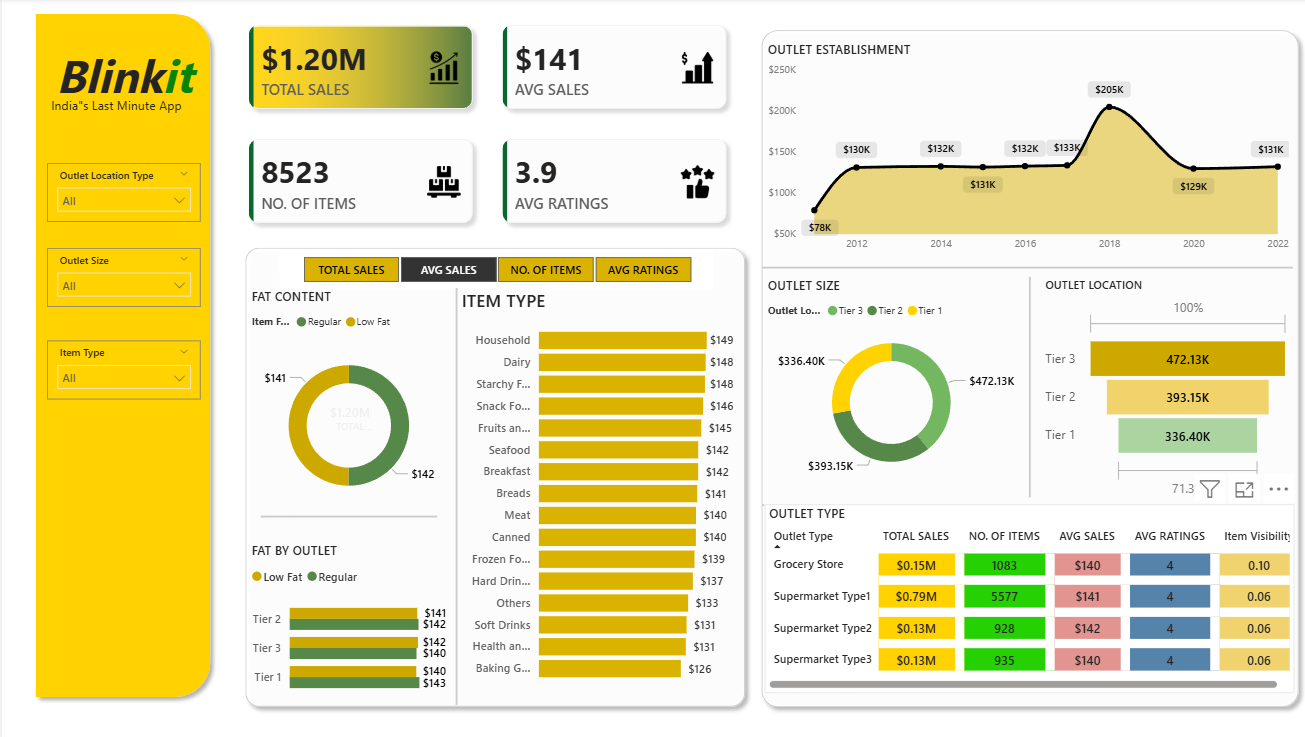

Layout of this report page (visuals, bound fields, positions):
{"tool":"powerbi","page":{"name":"Page 1","canvas":[1400,800],"ordinal":0},"visuals":[{"type":"cardVisual","fields":{"Data":["BlinkIT Grocery Data.TOTAL SALES"]},"box":[320.9,419.9,106.5,62.1],"z":0},{"type":"shape","box":[27,7.5,205.6,750.4],"z":1000},{"type":"textbox","box":[37.5,45,187.6,76.5],"z":2000},{"type":"textbox","box":[27,100.6,192.1,42],"z":3000},{"type":"cardVisual","fields":{"Data":["BlinkIT Grocery Data.TOTAL SALES","BlinkIT Grocery Data.AVG SALES","BlinkIT Grocery Data.NO. OF ITEMS","BlinkIT Grocery Data.AVG RATINGS"]},"box":[235.6,0,570.3,270.2],"z":4000},{"type":"shape","box":[252.1,258.1,553.8,510.3],"z":5000},{"type":"slicer","fields":{"Values":["Metrics.Metrics"]},"box":[297.2,270.2,465.3,40.5],"z":7000},{"type":"donutChart","title":"FAT CONTENT","fields":{"Y":["BlinkIT Grocery Data.AVG SALES"],"Category":["BlinkIT Grocery Data.Item Fat Content"]},"box":[263.2,310.5,218.8,249.9],"z":7500},{"type":"clusteredBarChart","title":"FAT BY OUTLET","fields":{"Y":["BlinkIT Grocery Data.AVG SALES"],"Category":["BlinkIT Grocery Data.Outlet Location Type"],"Series":["BlinkIT Grocery Data.Item Fat Content"]},"box":[263.2,582.6,218.8,176],"z":8000},{"type":"shape","box":[278,529.4,189.3,53.2],"z":9000},{"type":"shape","box":[466.8,310.7,42,447.3],"z":10000},{"type":"barChart","title":"ITEM TYPE","fields":{"Y":["BlinkIT Grocery Data.AVG SALES"],"Category":["BlinkIT Grocery Data.Item Type"]},"box":[487.8,310.7,301.7,432.2],"z":11000},{"type":"shape","box":[805.6,25.5,593.8,744],"z":12000},{"type":"lineChart","title":"OUTLET ESTABLISHMENT","fields":{"Category":["BlinkIT Grocery Data.Outlet Establishment Year"],"Y":["BlinkIT Grocery Data.TOTAL SALES"]},"box":[816.1,45.8,569,234.9],"z":13000},{"type":"shape","box":[814.7,272.1,569.3,34],"z":14000},{"type":"donutChart","title":"OUTLET SIZE","fields":{"Y":["BlinkIT Grocery Data.TOTAL SALES"],"Category":["BlinkIT Grocery Data.Outlet Location Type"]},"box":[816.2,298.7,275,224.8],"z":15000},{"type":"shape","box":[1091.3,298.7,22.2,236.6],"z":16000},{"type":"funnel","title":"OUTLET LOCATION","fields":{"Y":["Sum(BlinkIT Grocery Data.Sales)"],"Category":["BlinkIT Grocery Data.Outlet Location Type"]},"box":[1113.4,298.7,272.1,242.5],"z":17000},{"type":"shape","box":[814.7,526.4,569.3,34],"z":18000},{"type":"pivotTable","title":"OUTLET TYPE","fields":{"Rows":["BlinkIT Grocery Data.Outlet Type"],"Values":["BlinkIT Grocery Data.TOTAL SALES","BlinkIT Grocery Data.NO. OF ITEMS","BlinkIT Grocery Data.AVG SALES","BlinkIT Grocery Data.AVG RATINGS","Avg(BlinkIT Grocery Data.Item Visibility)"]},"box":[817.7,542.9,568.4,202.4],"z":19000},{"type":"slicer","fields":{"Values":["BlinkIT Grocery Data.Outlet Location Type"]},"box":[48.3,176.9,164.9,63],"z":20000},{"type":"slicer","fields":{"Values":["BlinkIT Grocery Data.Outlet Size"]},"box":[48.3,268.1,164.9,63],"z":21000},{"type":"slicer","fields":{"Values":["BlinkIT Grocery Data.Item Type"]},"box":[48.3,367.3,164.9,63],"z":22000}]}

Visuals, with their boxes in screenshot pixels (x1, y1, x2, y2), scaled from the page's 1400x800 canvas onto the 1305x737 screenshot:
cardVisual - BlinkIT Grocery Data.TOTAL SALES: 299, 387, 398, 444
shape: 25, 7, 217, 698
textbox: 35, 41, 210, 112
textbox: 25, 93, 204, 131
cardVisual - BlinkIT Grocery Data.TOTAL SALES x BlinkIT Grocery Data.AVG SALES: 220, 0, 751, 249
shape: 235, 238, 751, 708
slicer - Metrics.Metrics: 277, 249, 711, 286
"FAT CONTENT" donutChart: 245, 286, 449, 516
"FAT BY OUTLET" clusteredBarChart: 245, 537, 449, 699
shape: 259, 488, 436, 537
shape: 435, 286, 474, 698
"ITEM TYPE" barChart: 455, 286, 736, 684
shape: 751, 23, 1304, 709
"OUTLET ESTABLISHMENT" lineChart: 761, 42, 1291, 259
shape: 759, 251, 1290, 282
"OUTLET SIZE" donutChart: 761, 275, 1017, 482
shape: 1017, 275, 1038, 493
"OUTLET LOCATION" funnel: 1038, 275, 1291, 499
shape: 759, 485, 1290, 516
"OUTLET TYPE" pivotTable: 762, 500, 1292, 687
slicer - BlinkIT Grocery Data.Outlet Location Type: 45, 163, 199, 221
slicer - BlinkIT Grocery Data.Outlet Size: 45, 247, 199, 305
slicer - BlinkIT Grocery Data.Item Type: 45, 338, 199, 396
